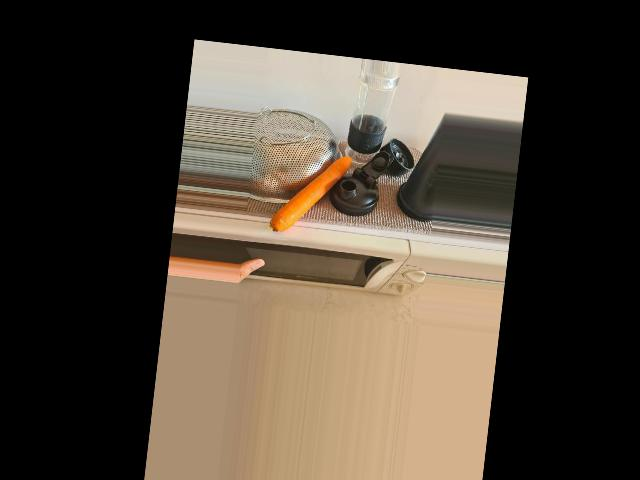carrot: (270, 149, 351, 239)
